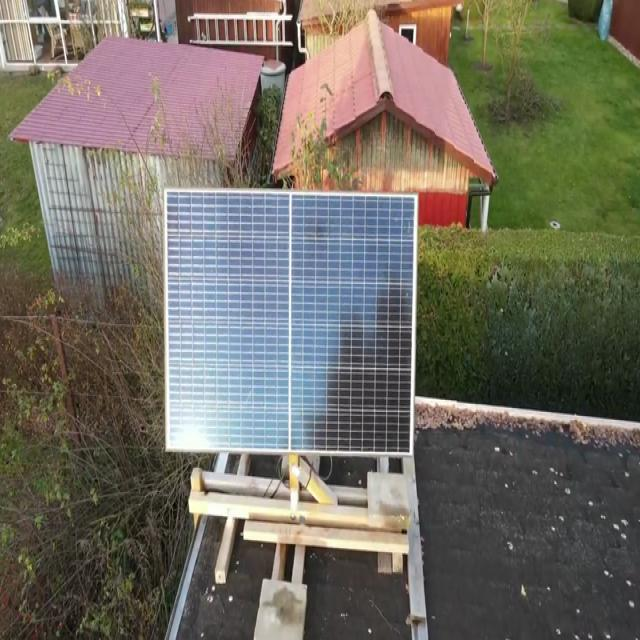Normal Solar Panel: (167, 191, 418, 453)
